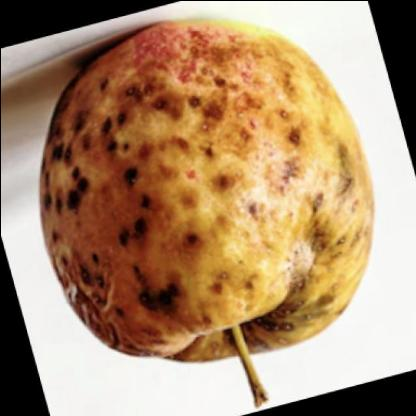defect: (40, 18, 374, 360)
